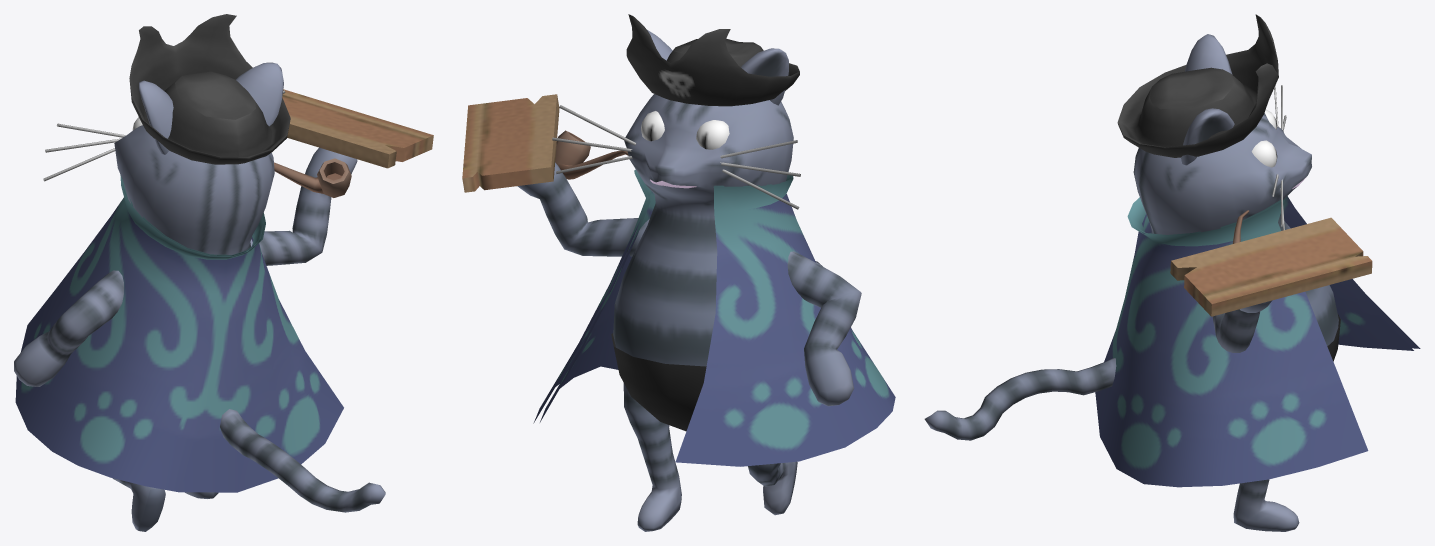
The model's file is neko_walk_c_07.fbx.
3 views of the same model, side by side, from view 1: azimuth 30°, elevation 25°; view 2: azimuth 150°, elevation 25°; view 3: azimuth 270°, elevation 25° (orthographic). The views are drawn at different scales.
Visible parts, largest first — view 1: W_c_07; view 2: W_c_07; view 3: W_c_07.
Boxes of the visible parts, box(x1,y1,x2,y2) form: W_c_07: box(14, 14, 433, 531); W_c_07: box(462, 14, 895, 531); W_c_07: box(924, 14, 1420, 531).
Size of the model in its own units: 1.69 by 1.98 by 1.84.
Materials: 1 (1 with a texture image).
